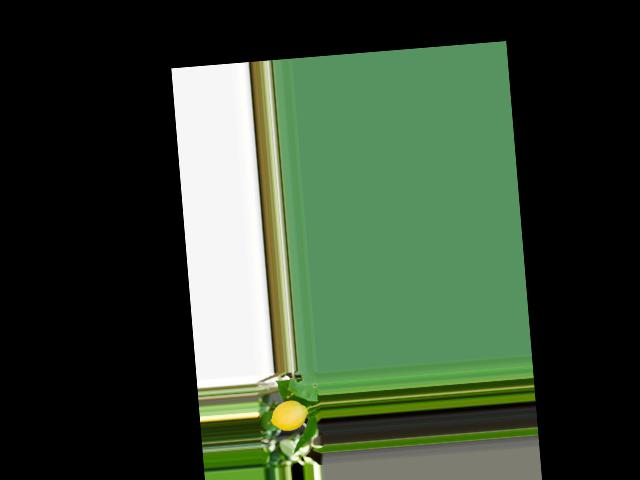lemon: (264, 398, 310, 436)
